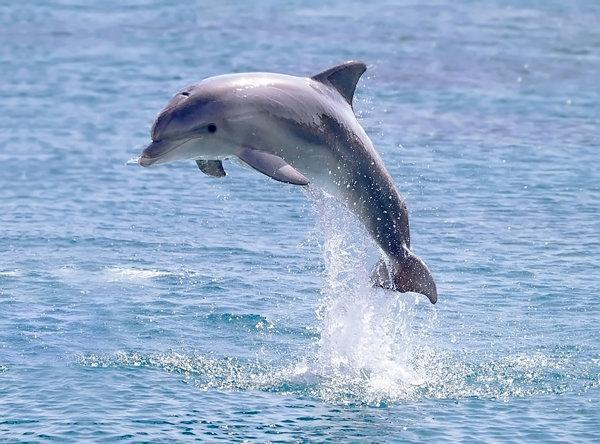fish: (135, 58, 440, 305)
